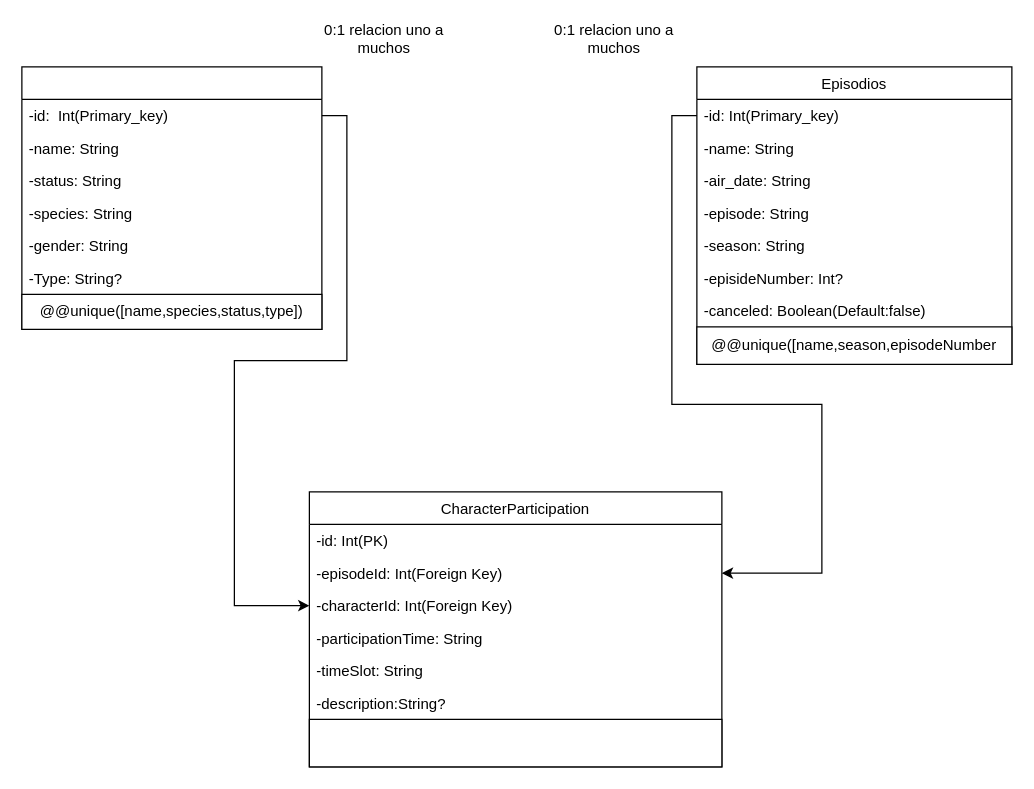
Some shapes in this 1034 by 789 pixel diagram are drawn without their labels. The shapes that lost their labels are listed below. From the top down, each one's box as (x1, y1, x2, y2) in pixels, then its label:
(21, 66, 322, 329): Personajes
(308, 718, 722, 767): @@unique([episodeId,characterId,participationTime])
